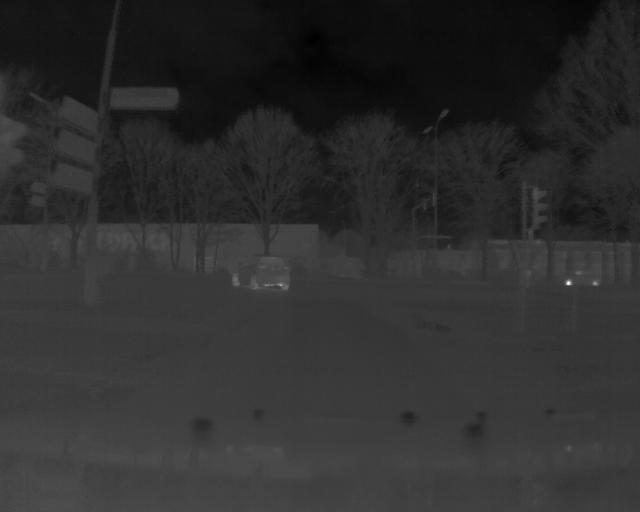car: (233, 257, 292, 293), (562, 268, 600, 288)
